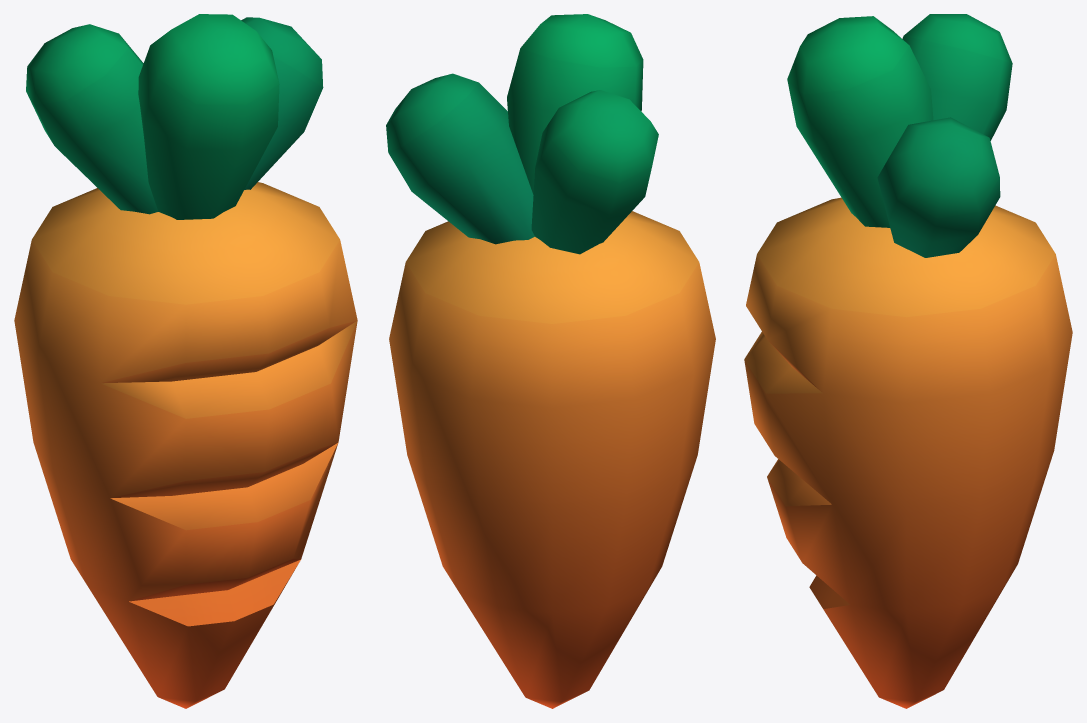
Rendered from food_ingredient_carrot.obj.
3 views of the same model, side by side, from view 1: azimuth 30°, elevation 25°; view 2: azimuth 150°, elevation 25°; view 3: azimuth 270°, elevation 25° (orthographic). The views are drawn at different scales.
Parts seen in each view (by area): view 1: food_ingredient_carrot_Cylinder.896; view 2: food_ingredient_carrot_Cylinder.896; view 3: food_ingredient_carrot_Cylinder.896.
Boxes of the visible parts, x1,y1,x2,y2 form: food_ingredient_carrot_Cylinder.896: (14, 14, 357, 708); food_ingredient_carrot_Cylinder.896: (386, 14, 715, 708); food_ingredient_carrot_Cylinder.896: (744, 14, 1072, 708).
Bounding box in the file's own units: 0.56 × 1.27 × 0.5529.
Materials: 1 (1 with a texture image).
